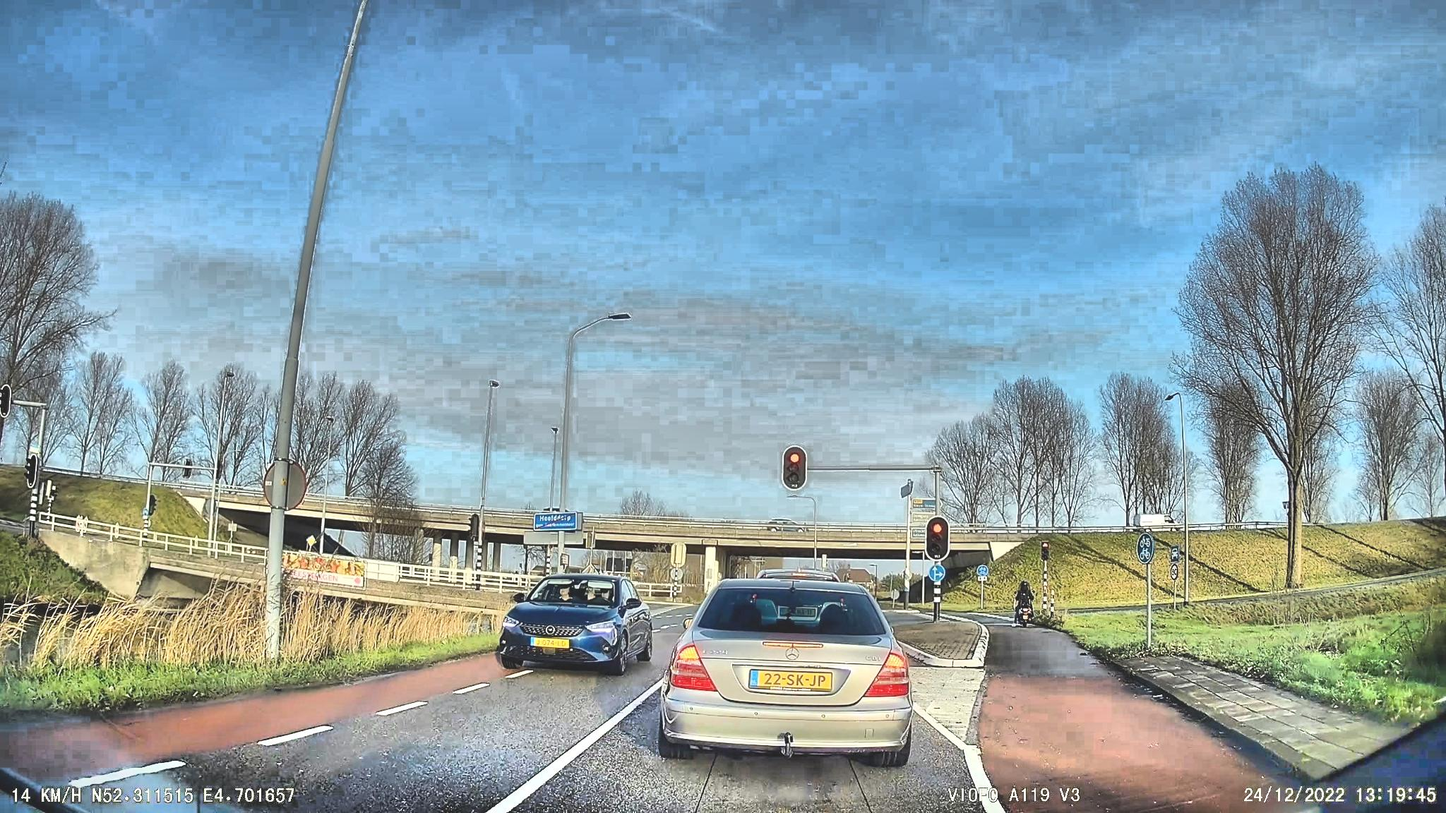Roads: (0, 627, 1208, 813)
